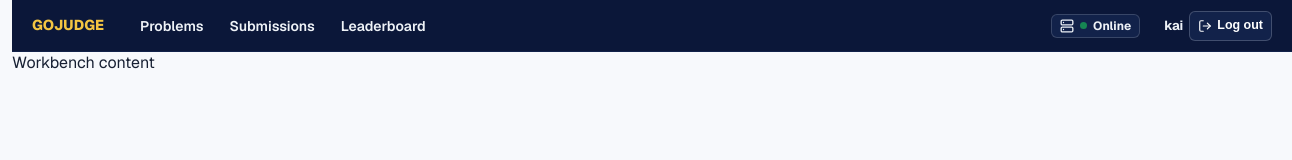
it: AppShell › shows the current user and logs out
This screenshot has width=1292, height=160.
Expected: the text "kai" is shown, x1=1164 y1=17 x2=1183 y2=34
What coordinates should you click on to do the following:
click the button "Log out"
I would click on:
 (1231, 26)
Its box is x1=1189 y1=10 x2=1272 y2=40.
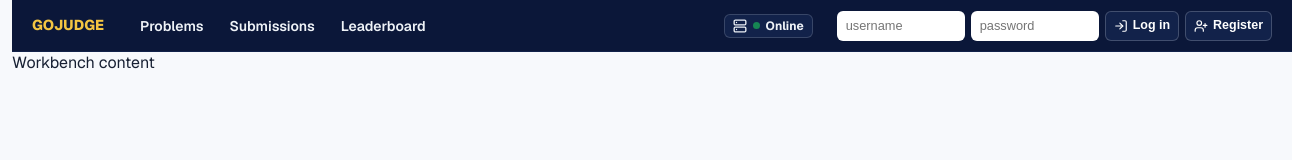
Now the button "Log in" is shown, box x1=1105 y1=10 x2=1179 y2=40
